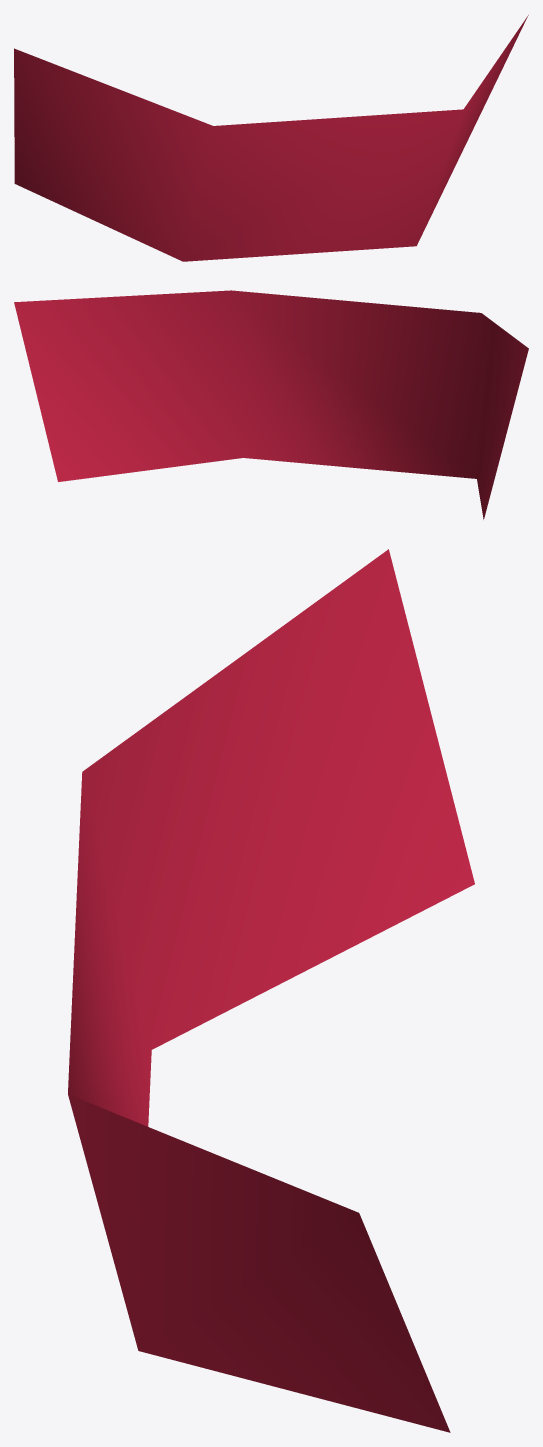
The picture shows the model from 3 angles, top to bottom: view 1: azimuth 30°, elevation 25°; view 2: azimuth 150°, elevation 25°; view 3: azimuth 270°, elevation 25°; orthographic projection. The views are drawn at different scales.
Visible parts, largest first — view 1: ef_437; view 2: ef_437; view 3: ef_437.
Boxes of the visible parts, x1,y1,x2,y2 form: ef_437: (14, 15, 528, 261); ef_437: (14, 290, 528, 519); ef_437: (68, 549, 474, 1432).
Bounding box in the file's own units: 1.02 × 0.4502 × 0.3535.
1 material, 1 textured.
